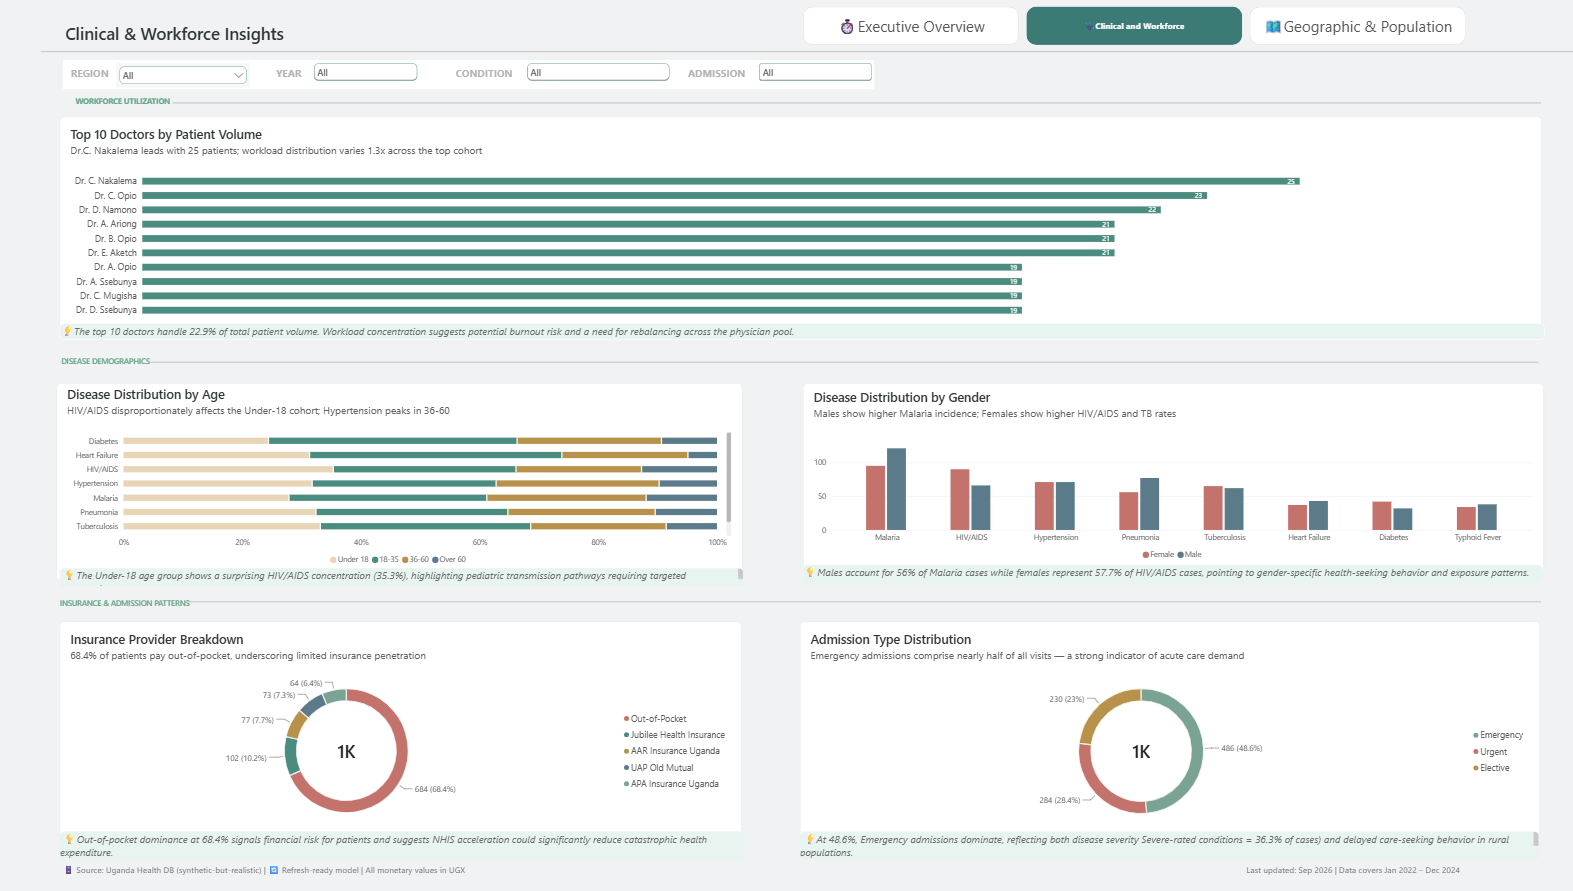

The page's visual inventory and layout, read from the dashboard file:
{"tool":"powerbi","page":{"name":"🩺Clinical and Workforce","canvas":[2560,1440],"ordinal":1},"visuals":[{"type":"textbox","box":[61,51.2,380.8,46.2],"z":0,"group":"g13"},{"type":"slicer","fields":{"Values":["public admission_type.admission_type"]},"box":[1188.7,112.1,191.6,35.9],"z":0,"group":"g12"},{"type":"clusteredBarChart","title":"Top 10 Doctors by Patient Volume","fields":{"Category":["public doctor.doctor_name"],"Y":["public fact_patient_visits.Total Patients"]},"box":[66.7,201.2,2392.8,340.3],"z":0,"group":"g9"},{"type":"clusteredColumnChart","title":"Disease Distribution by Gender","fields":{"Category":["public medical_condition.condition_name"],"Series":["public patient.gender"],"Y":["public fact_patient_visits.Total Patients"]},"box":[1264.2,622,1195.6,307.6],"z":0,"group":"g10"},{"type":"hundredPercentStackedBarChart","title":"Disease Distribution by Age","fields":{"Category":["public medical_condition.condition_name"],"Series":["public patient.age_group"],"Y":["public fact_patient_visits.Total Patients"]},"box":[61.5,622.1,1106.9,315.7],"z":0,"group":"g11"},{"type":"textbox","box":[65,962.2,254.3,27.8],"z":0,"group":"g5"},{"type":"donutChart","title":"Insurance Provider Breakdown","fields":{"Category":["public insurance.insurance_provider"],"Y":["public fact_patient_visits.Total Patients"]},"box":[65,1002.6,1101.2,347.6],"z":0,"group":"g4"},{"type":"donutChart","title":"Admission Type Distribution","fields":{"Category":["public admission_type.admission_type"],"Y":["public fact_patient_visits.Total Patients"]},"box":[1260.8,1002.6,1194.3,349.1],"z":0,"group":"g8"},{"type":"shape","box":[33.8,85.8,2496.2,23.1],"z":1000,"group":"g13"},{"type":"slicer","fields":{"Values":["public district.region"]},"box":[154.7,114.4,215.5,39.3],"z":1000,"group":"g12"},{"type":"textbox","box":[65.4,532.5,2397.2,26.2],"z":1000,"group":"g9"},{"type":"textbox","box":[1263.9,909,1193.8,30],"z":1000,"group":"g10"},{"type":"textbox","box":[65.3,917.4,1104.6,28.4],"z":1000,"group":"g11"},{"type":"shape","box":[267.5,968,2188.8,7.5],"z":1000,"group":"g5"},{"type":"textbox","box":[1260.9,1336.5,1194.2,28.6],"z":1000,"group":"g8"},{"type":"textbox","box":[65,1336.7,1101.2,28.5],"z":1000,"group":"g4"},{"type":"textbox","box":[1057.6,121,135.9,26.9],"z":2000,"group":"g12"},{"type":"group","id":"g1","title":"Group 1","box":[65.4,201.2,2397.2,357.5],"z":2000,"group":"g13"},{"type":"slicer","fields":{"Values":["public date.year"]},"box":[465.7,112.3,177.3,39.6],"z":3000,"group":"g12"},{"type":"textbox","box":[68.1,165.7,193.5,18.4],"z":3000,"group":"g7"},{"type":"group","id":"g2","title":"Group 2","box":[61.5,622.1,1107.9,323.7],"z":3000,"group":"g13"},{"type":"slicer","fields":{"Values":["public medical_condition.condition_name"]},"box":[811.3,111.1,240.3,38.9],"z":4000,"group":"g12"},{"type":"shape","box":[246.5,164.4,2208.6,27],"z":4000,"group":"g7"},{"type":"group","id":"g3","title":"Group 3","box":[1263.9,622,1195.8,317.6],"z":4000,"group":"g13"},{"type":"textbox","box":[67.9,123.3,86.8,29.9],"z":5000,"group":"g12"},{"type":"group","id":"g4","title":"Group 8","box":[65,1002.6,1101.2,362.6],"z":5000,"group":"g13"},{"type":"textbox","box":[398.6,121.5,71.2,28.8],"z":6000,"group":"g12"},{"type":"group","id":"g5","title":"Group 9","box":[65,962.2,2391.6,28.5],"z":6000,"group":"g13"},{"type":"textbox","box":[682.1,121.9,134.7,25.1],"z":7000,"group":"g12"},{"type":"group","id":"g6","title":"Group 10","box":[66.6,577.1,2388.6,24],"z":7000,"group":"g13"},{"type":"group","id":"g7","title":"Group 11","box":[68.1,164.4,2387,27],"z":8000,"group":"g13"},{"type":"textbox","box":[66.6,577.7,147.7,20.7],"z":8000,"group":"g6"},{"type":"shape","box":[214.4,577.1,2240.6,24],"z":9000,"group":"g6"},{"type":"group","id":"g8","title":"Group 12","box":[1260.8,1002.6,1194.3,362.6],"z":9000,"group":"g13"},{"type":"group","id":"g9","title":"Group 7","box":[65.4,201.2,2397.2,357.5],"z":9001,"group":"g1"},{"type":"group","id":"g10","title":"Group 4","box":[1263.9,622,1195.8,317],"z":9001,"group":"g3"},{"type":"group","id":"g11","title":"Group 6","box":[61.5,622.1,1108.4,323.7],"z":9001,"group":"g2"},{"type":"group","id":"g12","title":"Group 5","box":[67.9,111.1,1312.4,42.6],"z":10000,"group":"g13"},{"type":"pageNavigator","box":[1873.4,30,585.7,47.9],"z":11000,"group":"g13"},{"type":"group","id":"g13","title":"Group 13","box":[33.8,30,2496.2,1380],"z":11002},{"type":"textbox","box":[68.4,1386.8,2384.2,23.2],"z":12000,"group":"g13"}]}

Visuals, with their boxes in screenshot pixels (x1, y1, x2, y2), scaled from the page's 2560x1440 canvas onto the 1573x891 screenshot:
textbox: box=[37, 32, 271, 60]
slicer - public admission_type.admission_type: box=[730, 69, 848, 92]
"Top 10 Doctors by Patient Volume" clusteredBarChart: box=[41, 124, 1511, 335]
"Disease Distribution by Gender" clusteredColumnChart: box=[777, 385, 1511, 575]
"Disease Distribution by Age" hundredPercentStackedBarChart: box=[38, 385, 718, 580]
textbox: box=[40, 595, 196, 613]
"Insurance Provider Breakdown" donutChart: box=[40, 620, 717, 835]
"Admission Type Distribution" donutChart: box=[775, 620, 1509, 836]
shape: box=[21, 53, 1555, 67]
slicer - public district.region: box=[95, 71, 227, 95]
textbox: box=[40, 329, 1513, 346]
textbox: box=[777, 562, 1510, 581]
textbox: box=[40, 568, 719, 585]
shape: box=[164, 599, 1509, 604]
textbox: box=[775, 827, 1509, 845]
textbox: box=[40, 827, 717, 845]
textbox: box=[650, 75, 733, 92]
"Group 1" group: box=[40, 124, 1513, 346]
slicer - public date.year: box=[286, 69, 395, 94]
textbox: box=[42, 103, 161, 114]
"Group 2" group: box=[38, 385, 719, 585]
slicer - public medical_condition.condition_name: box=[499, 69, 646, 93]
shape: box=[151, 102, 1509, 118]
"Group 3" group: box=[777, 385, 1511, 581]
textbox: box=[42, 76, 95, 95]
"Group 8" group: box=[40, 620, 717, 845]
textbox: box=[245, 75, 289, 93]
"Group 9" group: box=[40, 595, 1509, 613]
textbox: box=[419, 75, 502, 91]
"Group 10" group: box=[41, 357, 1509, 372]
"Group 11" group: box=[42, 102, 1509, 118]
textbox: box=[41, 357, 132, 370]
shape: box=[132, 357, 1508, 372]
"Group 12" group: box=[775, 620, 1509, 845]
"Group 7" group: box=[40, 124, 1513, 346]
"Group 4" group: box=[777, 385, 1511, 581]
"Group 6" group: box=[38, 385, 719, 585]
"Group 5" group: box=[42, 69, 848, 95]
pageNavigator: box=[1151, 19, 1511, 48]
"Group 13" group: box=[21, 19, 1555, 872]
textbox: box=[42, 858, 1507, 872]
